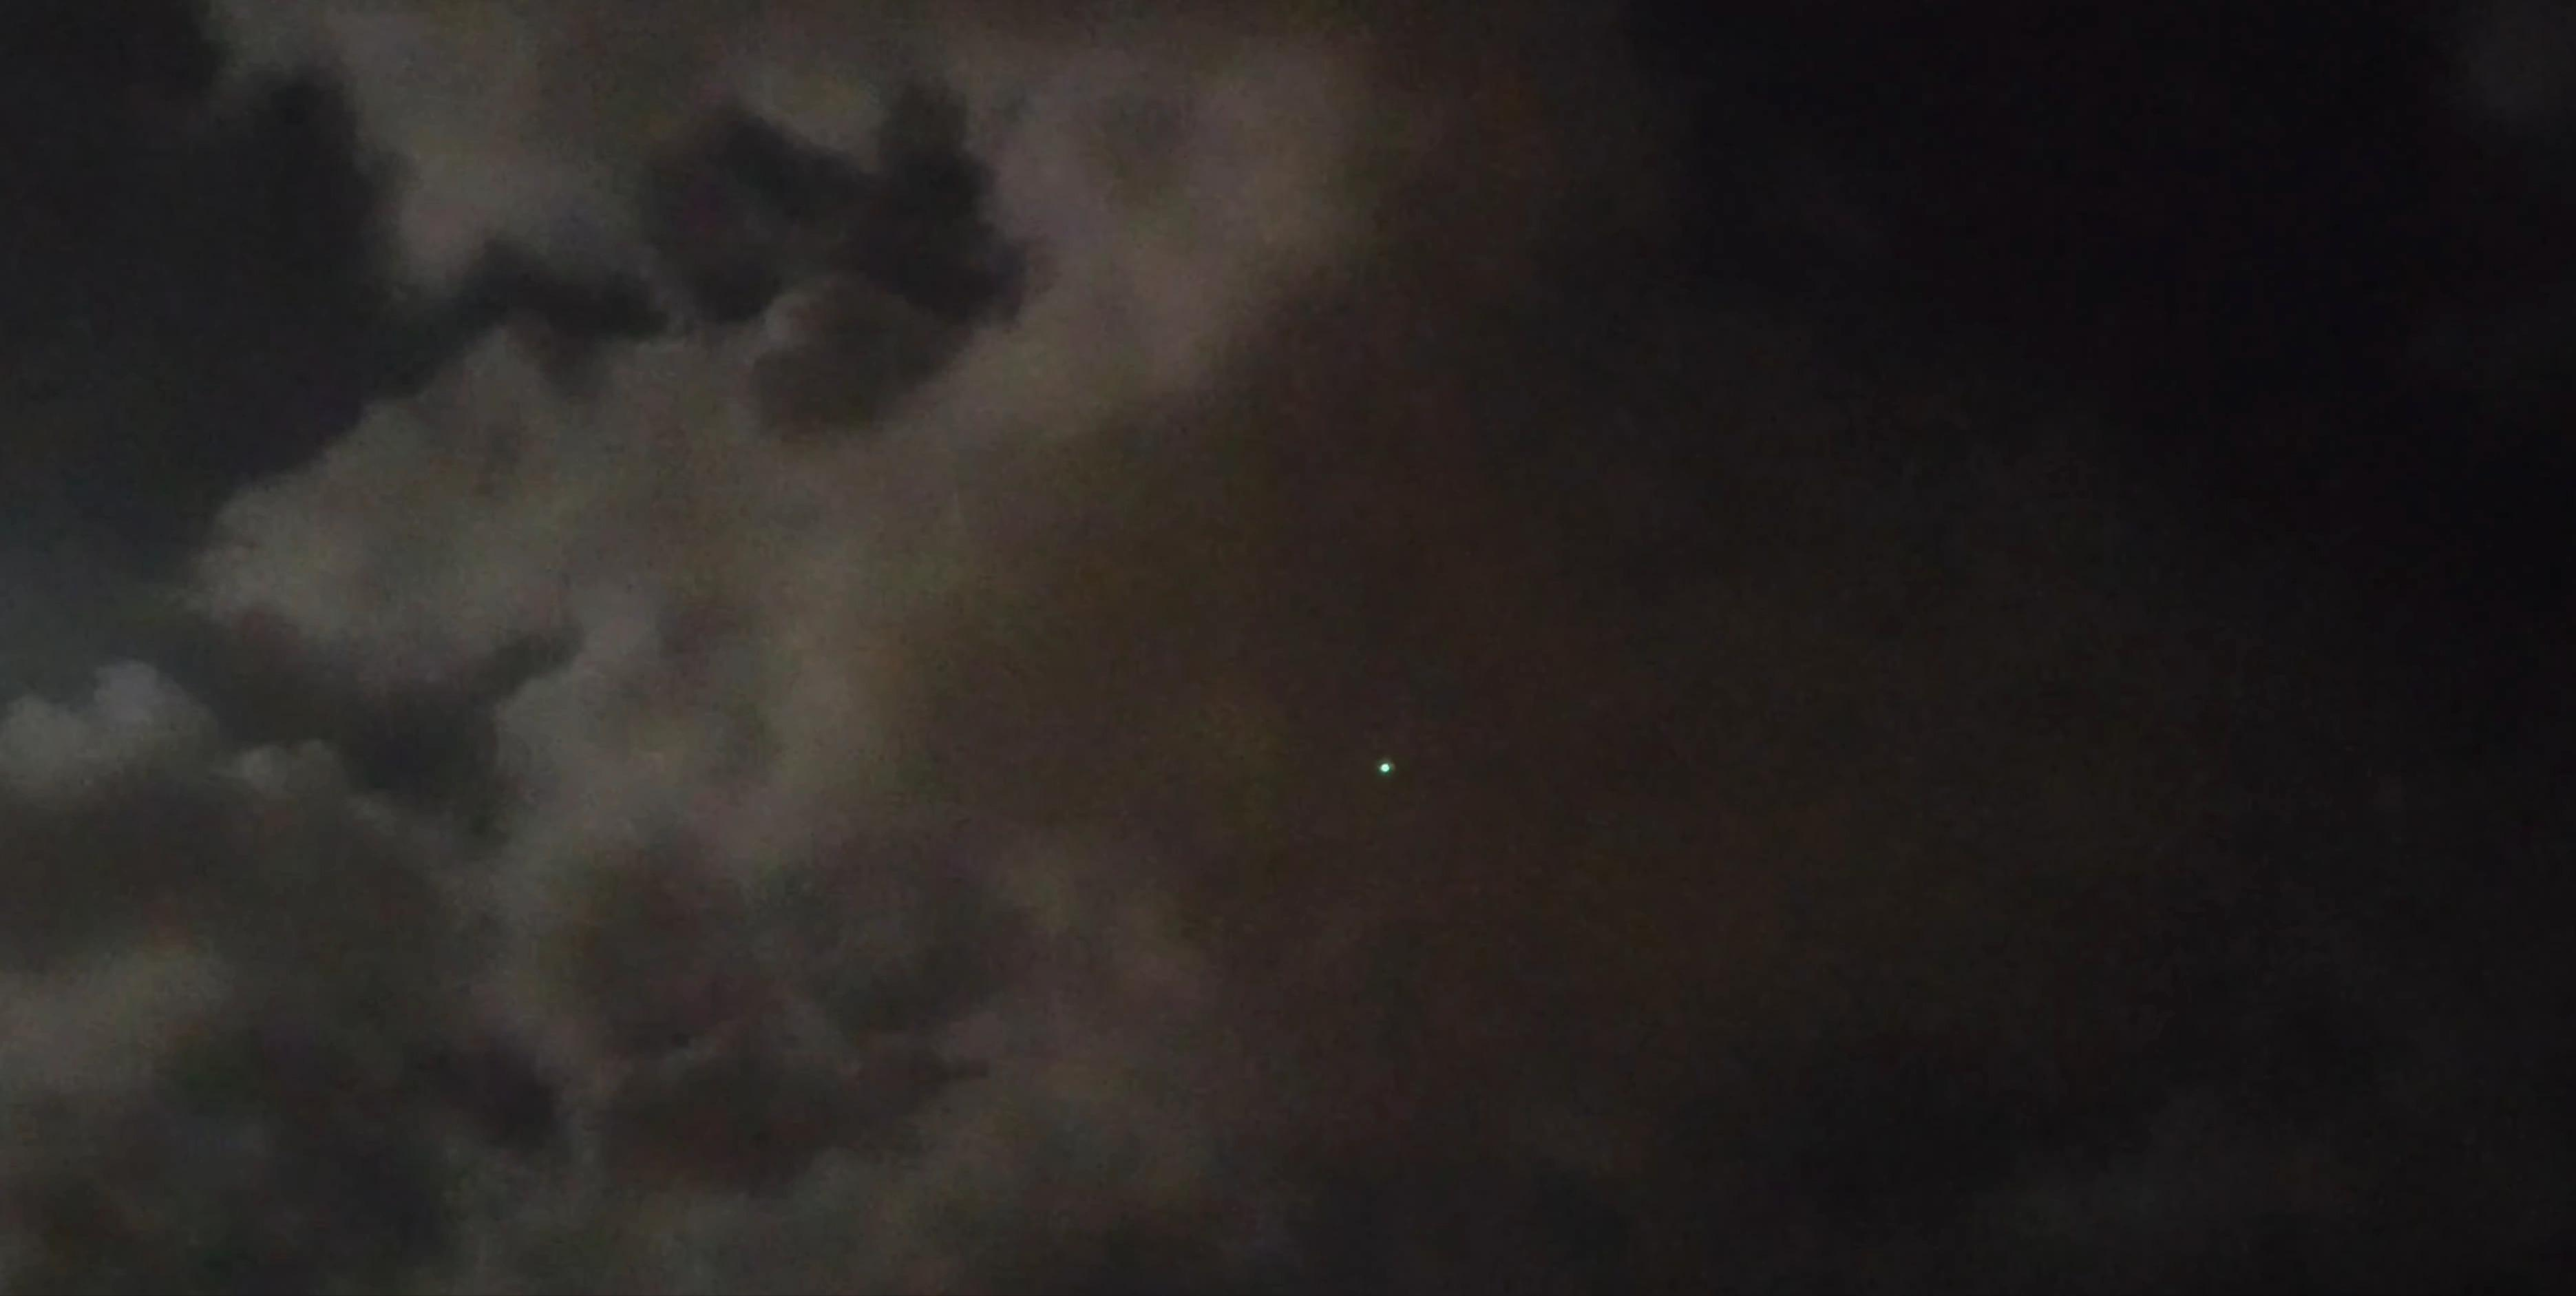Plane: (1360, 741, 1413, 798)
